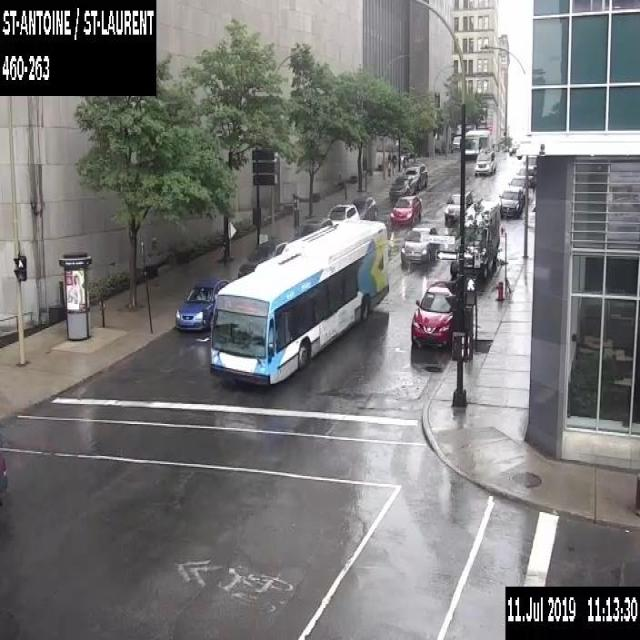bus: (207, 218, 389, 386), (465, 127, 489, 156)
pedestrian: (386, 151, 391, 171), (391, 152, 395, 172), (402, 155, 406, 170)
vehicle: (449, 198, 500, 278), (409, 278, 452, 350), (174, 276, 230, 330), (237, 238, 287, 278), (400, 222, 438, 267), (443, 189, 472, 227), (390, 194, 421, 225), (298, 216, 332, 238), (498, 186, 522, 216), (326, 203, 359, 224), (403, 163, 428, 190), (388, 176, 414, 200), (474, 149, 495, 174), (352, 196, 377, 217), (516, 165, 536, 190), (507, 174, 528, 196), (522, 154, 537, 170), (0, 456, 7, 490)
